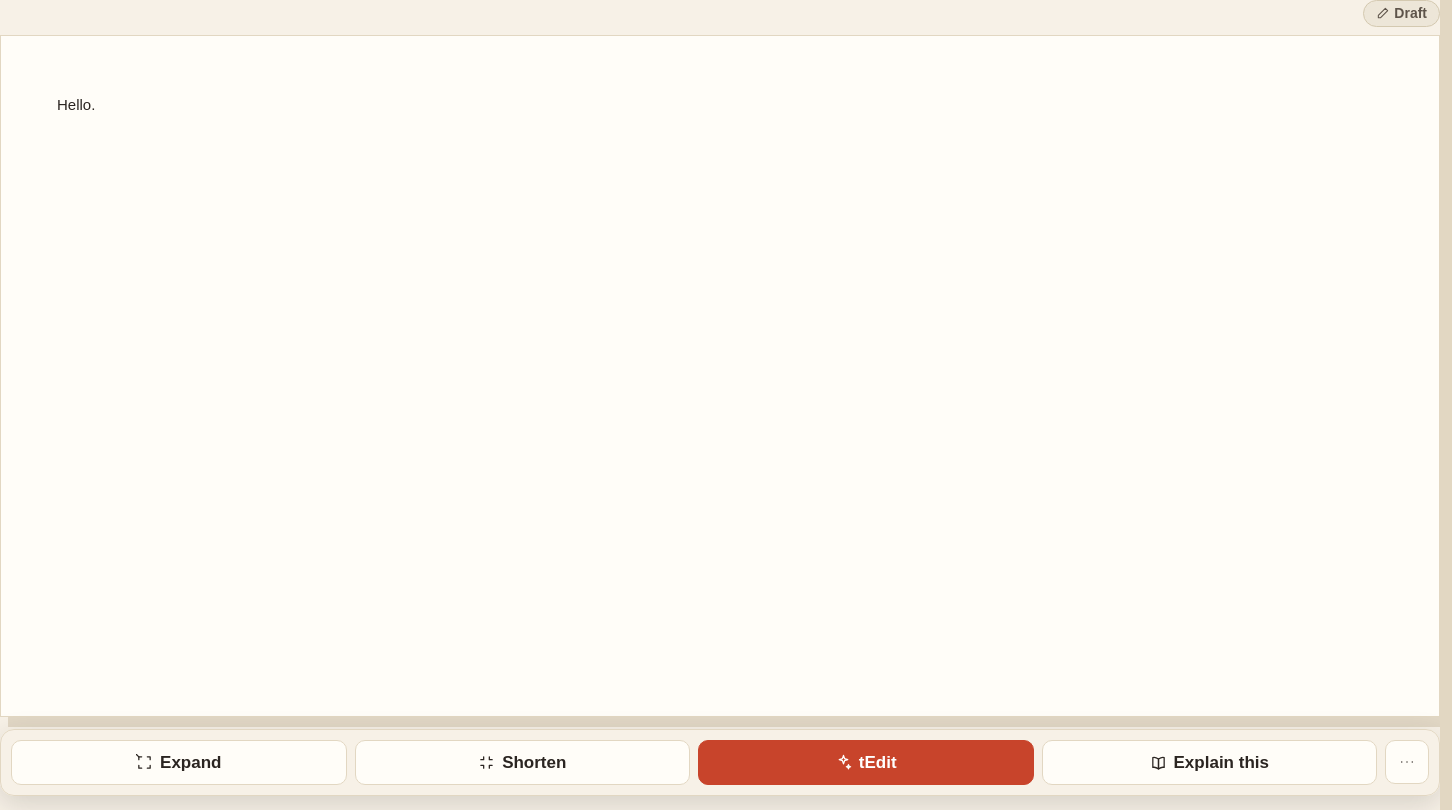
SectionEditor revision-bound TED edits › fails closed when persisted binding metadata is unavailable
What coordinates should you click on to do the following:
click the button "tEdit"
I would click on:
 (866, 762)
Its box is x1=698 y1=740 x2=1034 y2=785.
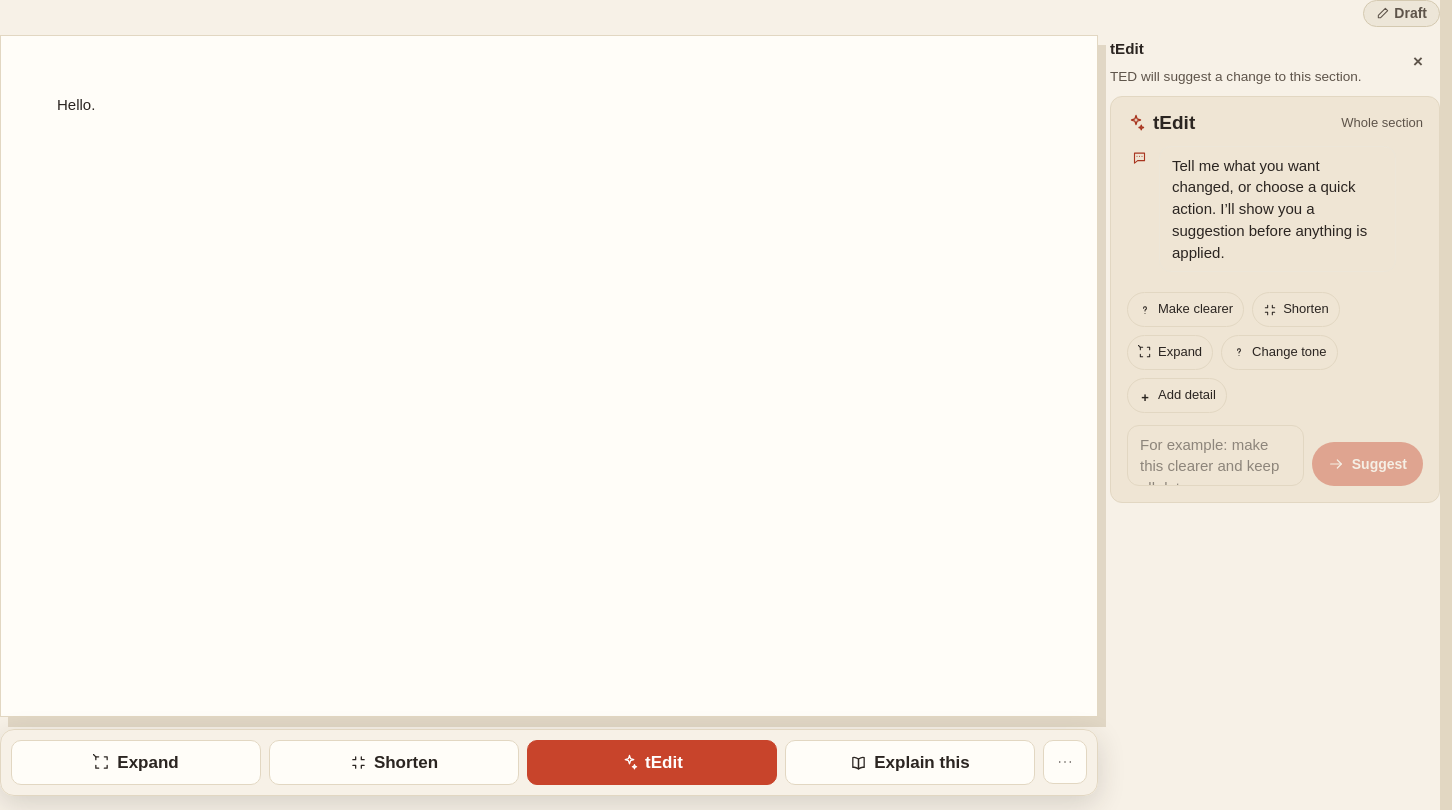
What coordinates should you click on to do the following:
click the button "Make clearer"
I would click on:
 (1186, 310)
Its box is x1=1127 y1=292 x2=1244 y2=327.
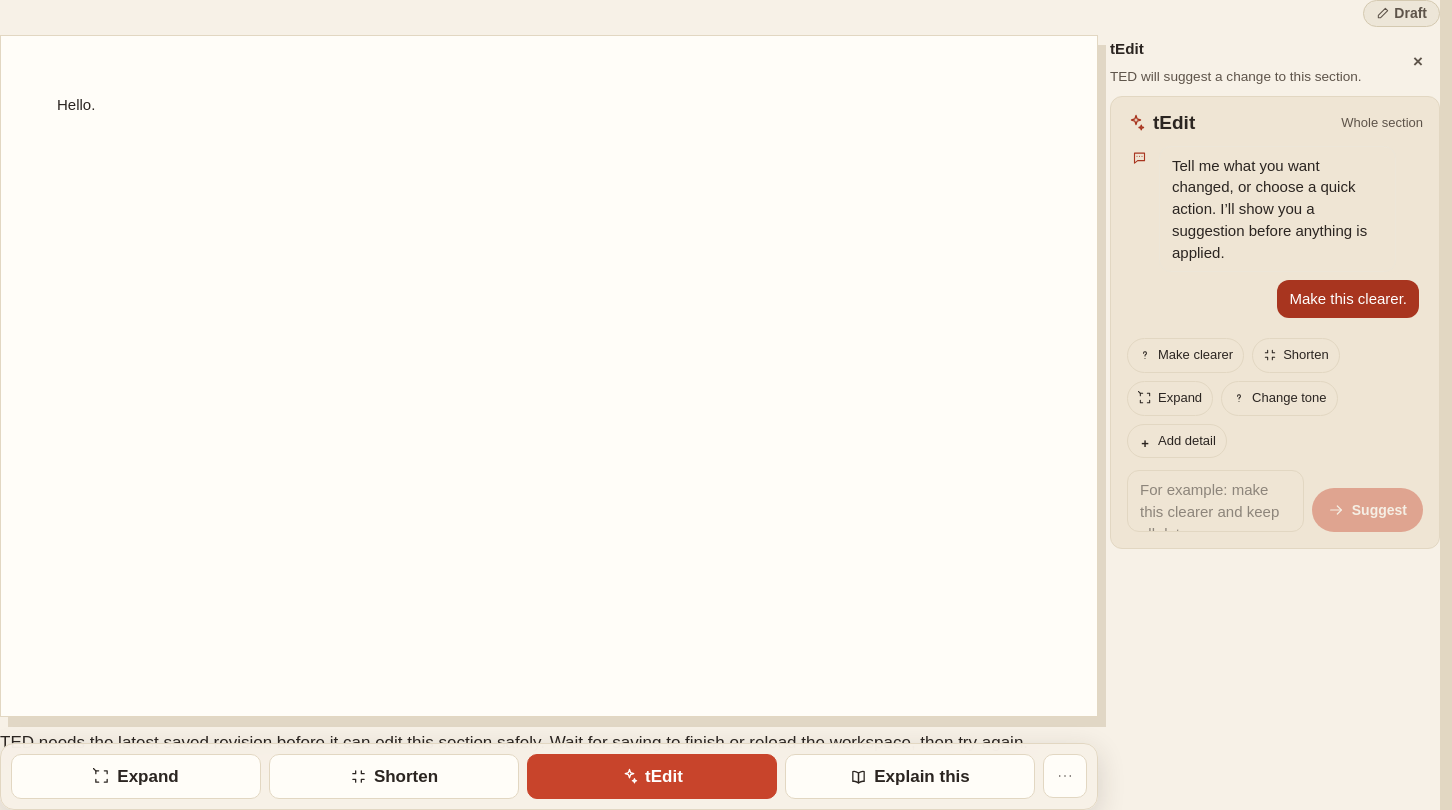
Expected: the message shows "latest saved revision", x1=0 y1=733 x2=1028 y2=752
